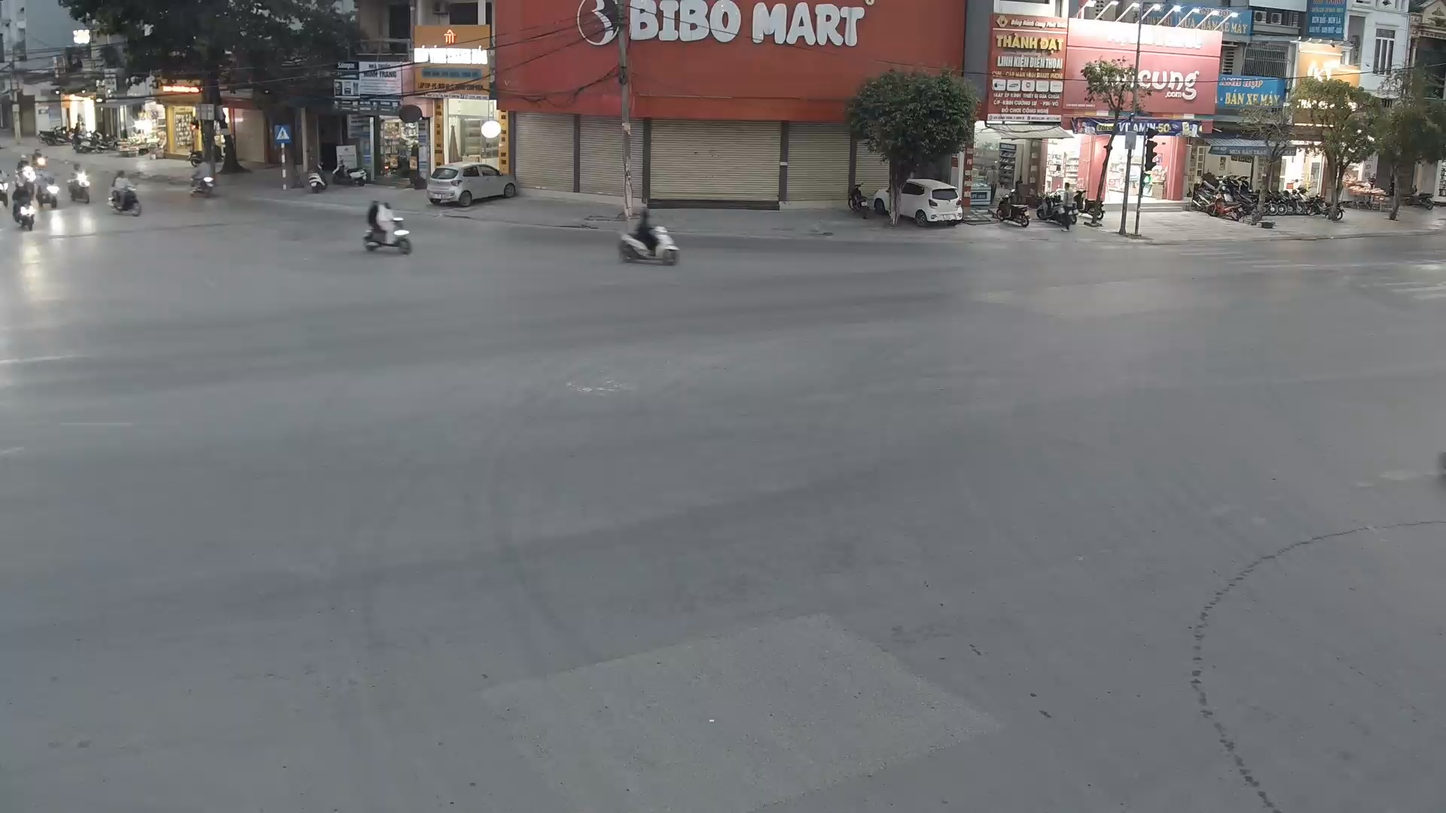car: (426, 163, 521, 209)
motorbike: (615, 201, 681, 267), (360, 198, 413, 255), (9, 168, 40, 233), (107, 166, 141, 217)
